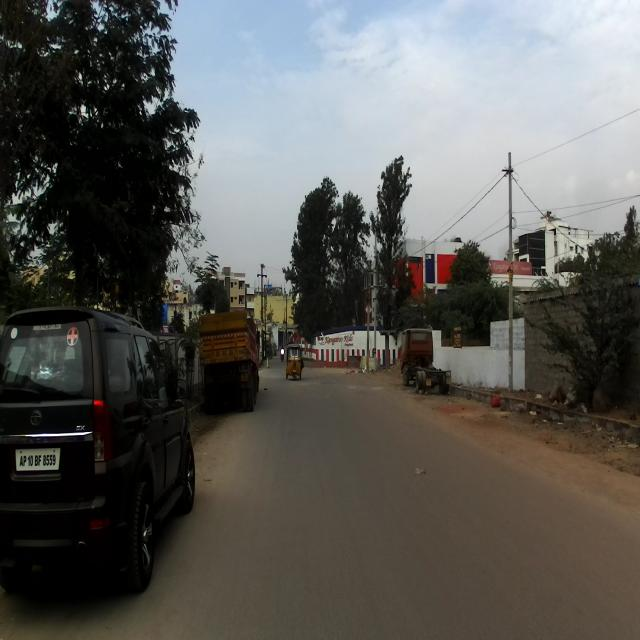car ahead at: (1, 309, 198, 593)
truck ahead at: (196, 305, 263, 414)
